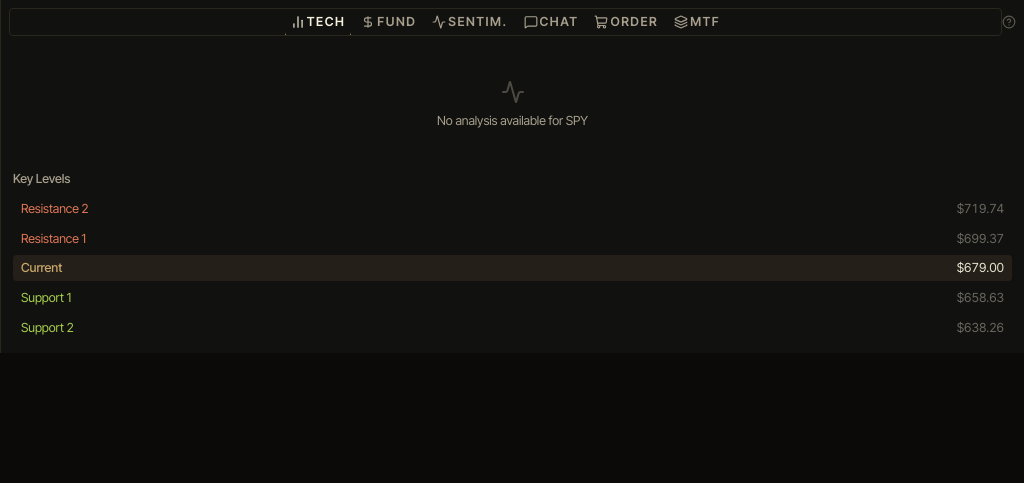
Test case: AnalysisPanel › switches to Fund tab when clicked
Click the tab "Fund" at {"x": 389, "y": 22}, box x1=355 y1=6 x2=422 y2=38
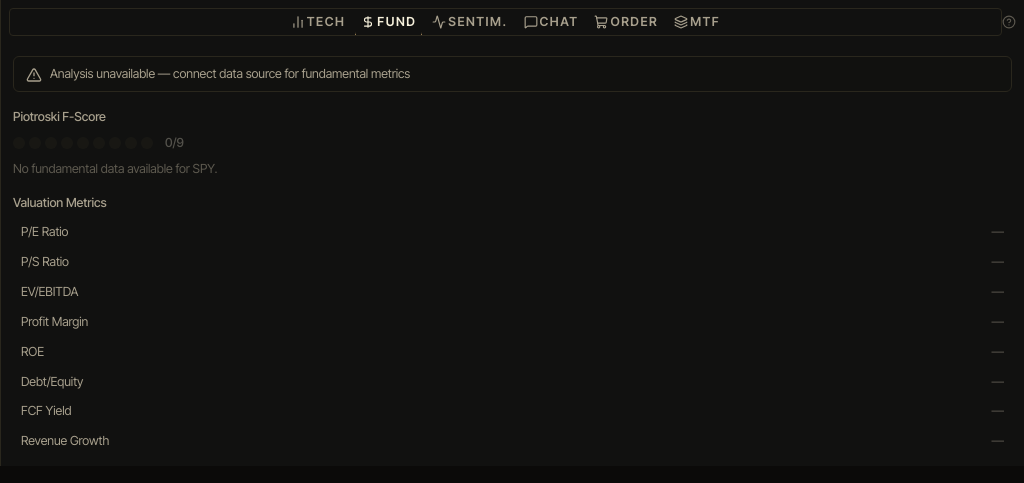
Expected: the heading "Piotroski F-Score" is shown, x1=13 y1=109 x2=106 y2=124
